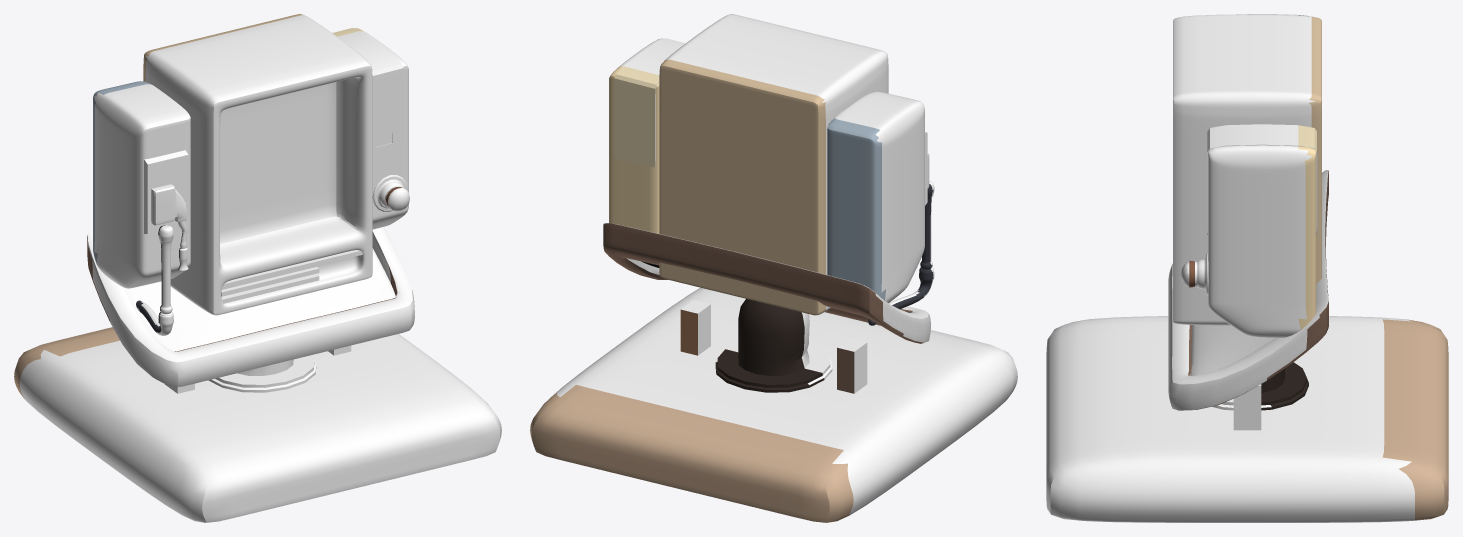
Rendered from computer.gltf.
3 renders of one model, left to right at view 1: azimuth 30°, elevation 25°; view 2: azimuth 150°, elevation 25°; view 3: azimuth 270°, elevation 25°, orthographic. The views are drawn at different scales.
Parts seen in each view (by area): view 1: kaedim_mesh_0_Mesh.002, kaedim_mesh_0_Mesh, kaedim_mesh_0_Mesh.017, kaedim_mesh_0_Mesh.001, kaedim_mesh_0_Mesh.004, kaedim_mesh_0_Mesh.008, kaedim_mesh_0_Mesh.005, kaedim_mesh_0_Mesh.009, kaedim_mesh_0_Mesh.011, kaedim_mesh_0_Mesh.014, kaedim_mesh_0_Mesh.012, kaedim_mesh_0_Mesh.007 (+3 smaller); view 2: kaedim_mesh_0_Mesh.002, kaedim_mesh_0_Mesh, kaedim_mesh_0_Mesh.017, kaedim_mesh_0_Mesh.001, kaedim_mesh_0_Mesh.009, kaedim_mesh_0_Mesh.008, kaedim_mesh_0_Mesh.005, kaedim_mesh_0_Mesh.003, kaedim_mesh_0_Mesh.016, kaedim_mesh_0_Mesh.014; view 3: kaedim_mesh_0_Mesh.002, kaedim_mesh_0_Mesh, kaedim_mesh_0_Mesh.005, kaedim_mesh_0_Mesh.001, kaedim_mesh_0_Mesh.008, kaedim_mesh_0_Mesh.004, kaedim_mesh_0_Mesh.009, kaedim_mesh_0_Mesh.003, kaedim_mesh_0_Mesh.007.
Part boxes in pixels (x1=…): kaedim_mesh_0_Mesh.002: x1=14, y1=327, x2=501, y2=522; kaedim_mesh_0_Mesh: x1=143, y1=14, x2=372, y2=315; kaedim_mesh_0_Mesh.017: x1=93, y1=81, x2=190, y2=288; kaedim_mesh_0_Mesh.001: x1=87, y1=227, x2=414, y2=387; kaedim_mesh_0_Mesh.004: x1=123, y1=248, x2=395, y2=351; kaedim_mesh_0_Mesh.008: x1=332, y1=28, x2=403, y2=155; kaedim_mesh_0_Mesh.005: x1=354, y1=28, x2=408, y2=229; kaedim_mesh_0_Mesh.009: x1=208, y1=302, x2=316, y2=392; kaedim_mesh_0_Mesh.011: x1=144, y1=150, x2=188, y2=233; kaedim_mesh_0_Mesh.014: x1=136, y1=225, x2=173, y2=335; kaedim_mesh_0_Mesh.012: x1=151, y1=184, x2=186, y2=225; kaedim_mesh_0_Mesh.007: x1=372, y1=175, x2=409, y2=211; kaedim_mesh_0_Mesh.002: x1=530, y1=287, x2=1017, y2=522; kaedim_mesh_0_Mesh: x1=659, y1=14, x2=888, y2=315; kaedim_mesh_0_Mesh.017: x1=827, y1=91, x2=924, y2=302; kaedim_mesh_0_Mesh.001: x1=603, y1=223, x2=930, y2=343; kaedim_mesh_0_Mesh.009: x1=715, y1=299, x2=832, y2=392; kaedim_mesh_0_Mesh.008: x1=614, y1=38, x2=685, y2=167; kaedim_mesh_0_Mesh.005: x1=609, y1=38, x2=663, y2=233; kaedim_mesh_0_Mesh.003: x1=680, y1=300, x2=710, y2=355; kaedim_mesh_0_Mesh.016: x1=837, y1=338, x2=867, y2=393; kaedim_mesh_0_Mesh.014: x1=868, y1=181, x2=934, y2=325; kaedim_mesh_0_Mesh.002: x1=1046, y1=316, x2=1448, y2=522; kaedim_mesh_0_Mesh: x1=1173, y1=14, x2=1321, y2=325; kaedim_mesh_0_Mesh.005: x1=1208, y1=124, x2=1316, y2=337; kaedim_mesh_0_Mesh.001: x1=1168, y1=170, x2=1328, y2=410; kaedim_mesh_0_Mesh.008: x1=1207, y1=124, x2=1317, y2=234; kaedim_mesh_0_Mesh.004: x1=1191, y1=325, x2=1274, y2=375; kaedim_mesh_0_Mesh.009: x1=1190, y1=362, x2=1308, y2=410; kaedim_mesh_0_Mesh.003: x1=1233, y1=384, x2=1261, y2=430; kaedim_mesh_0_Mesh.007: x1=1180, y1=253, x2=1208, y2=295.
Bounding box in the file's own units: 1.84 × 2 × 1.87.
